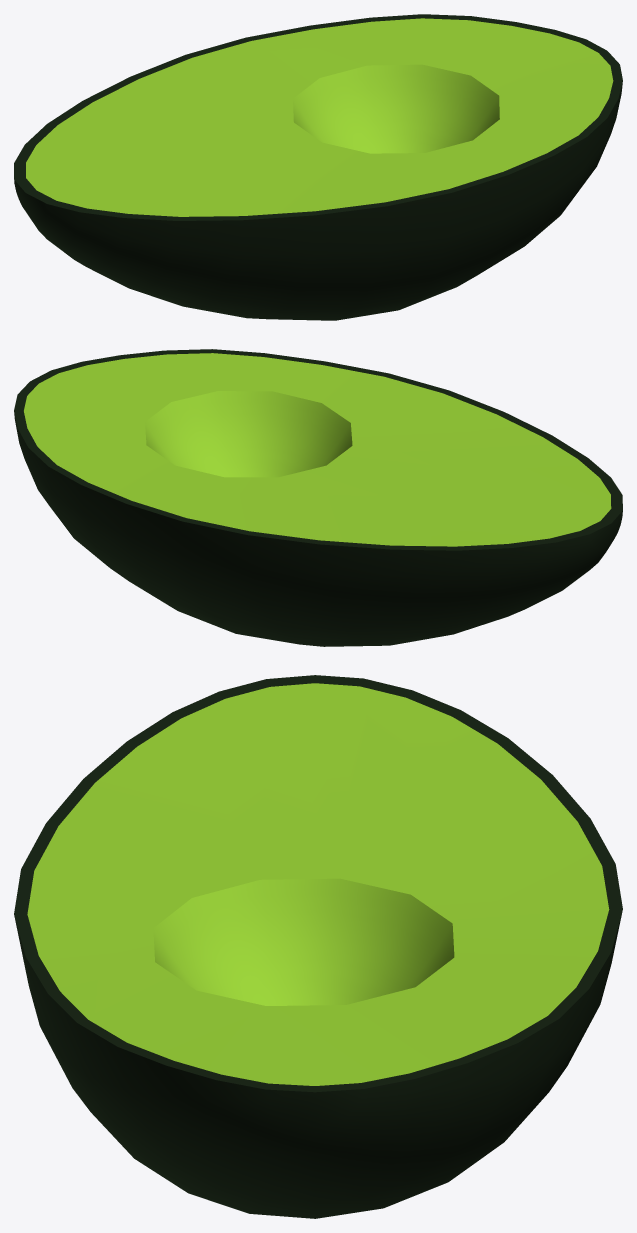
File: Avocado.fbx
3 renders of one model, top to bottom at view 1: azimuth 30°, elevation 25°; view 2: azimuth 150°, elevation 25°; view 3: azimuth 270°, elevation 25°, orthographic. The views are drawn at different scales.
Visible parts, largest first — view 1: Sphere.004; view 2: Sphere.004; view 3: Sphere.004.
Boxes of the visible parts, x1,y1,x2,y2 form: Sphere.004: [14, 14, 622, 320]; Sphere.004: [14, 349, 622, 646]; Sphere.004: [14, 675, 622, 1218].
Bounding box in the file's own units: 2857 × 853 × 1761.
